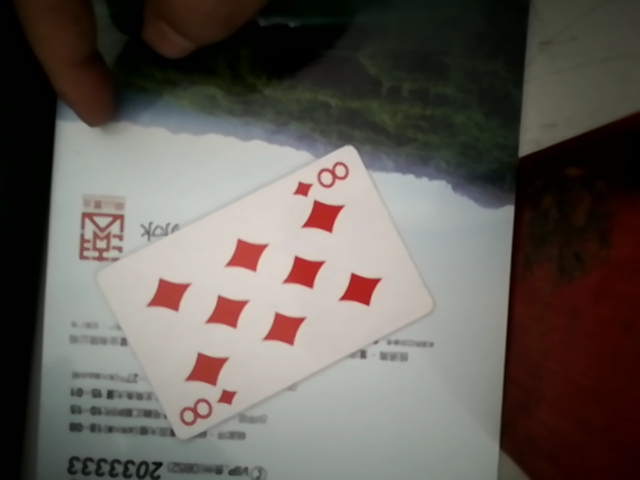fk 8: (107, 147, 428, 434)
